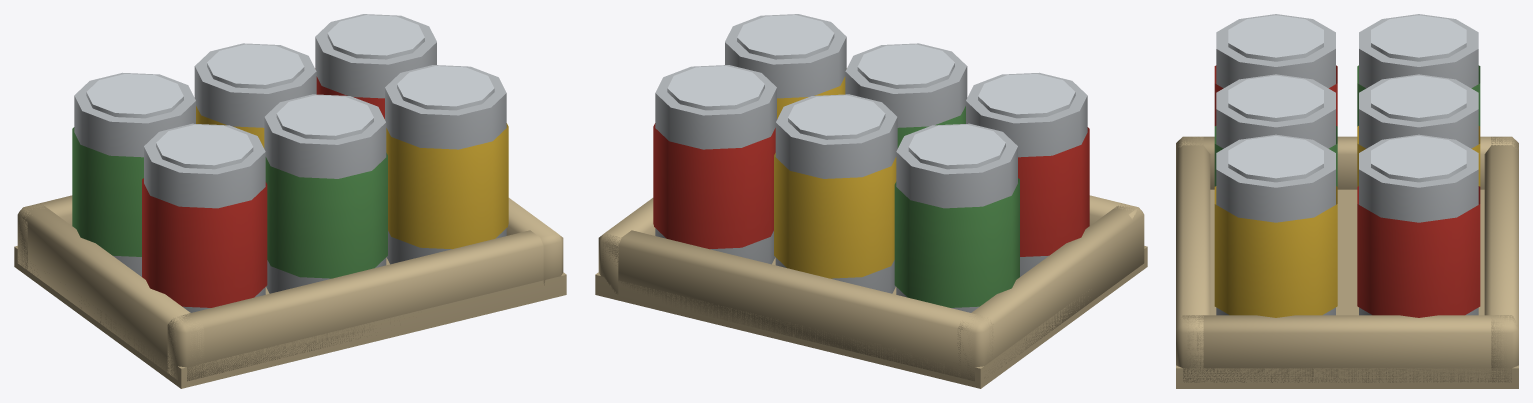
File: SM_CanGoods_Case_01.glb
3 renders of one model, left to right at view 1: azimuth 30°, elevation 25°; view 2: azimuth 150°, elevation 25°; view 3: azimuth 270°, elevation 25°, orthographic. The views are drawn at different scales.
Visible parts, largest first — view 1: SM_CanGoods_Case_01; view 2: SM_CanGoods_Case_01; view 3: SM_CanGoods_Case_01.
Part boxes in pixels (x1=…): SM_CanGoods_Case_01: x1=14, y1=14, x2=566, y2=388; SM_CanGoods_Case_01: x1=595, y1=14, x2=1147, y2=388; SM_CanGoods_Case_01: x1=1176, y1=14, x2=1518, y2=388.
Bounding box in the file's own units: 0.4 × 0.189 × 0.3.
1 material, 1 textured.
